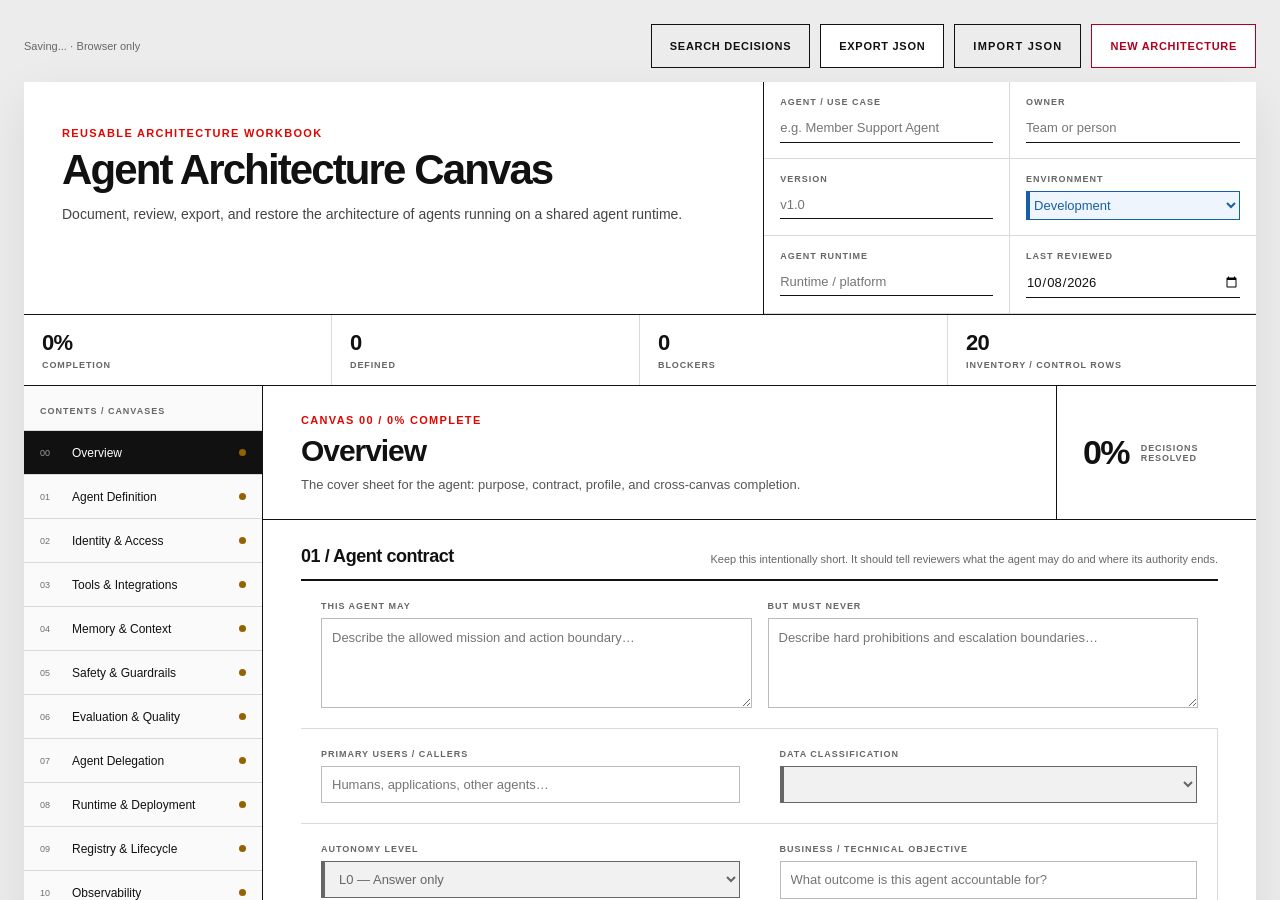
Scenario: loads, dynamic heading, debounced autosave
Expected: the heading "Agent Architecture Canvas" is shown, 62,146 -> 552,193
Step 1. Type "Support" into the field labelled "Agent / Use Case" → (887, 128), box 780,114 -> 993,142
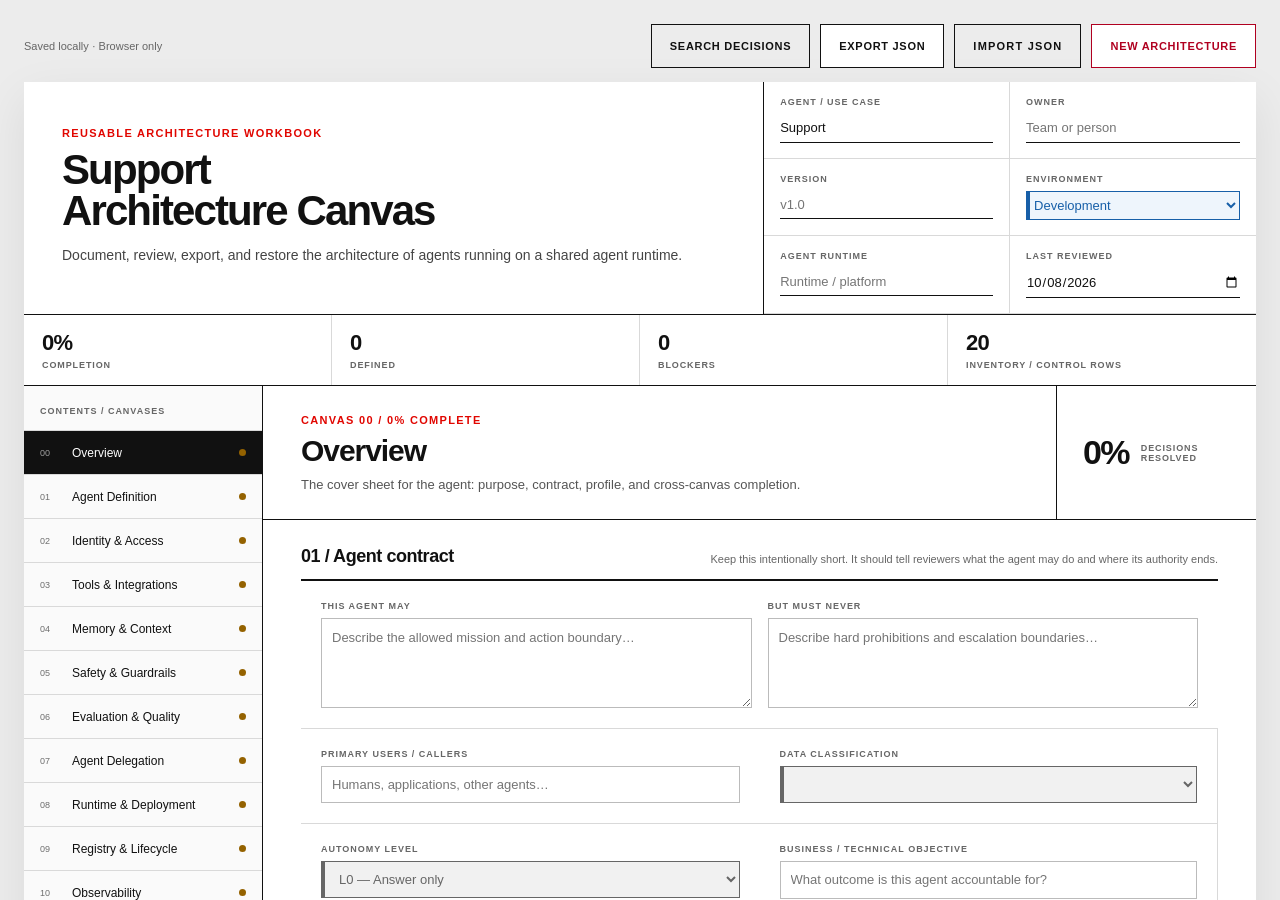
Now the 2nd heading shows "Support", box 62,146 -> 210,193
